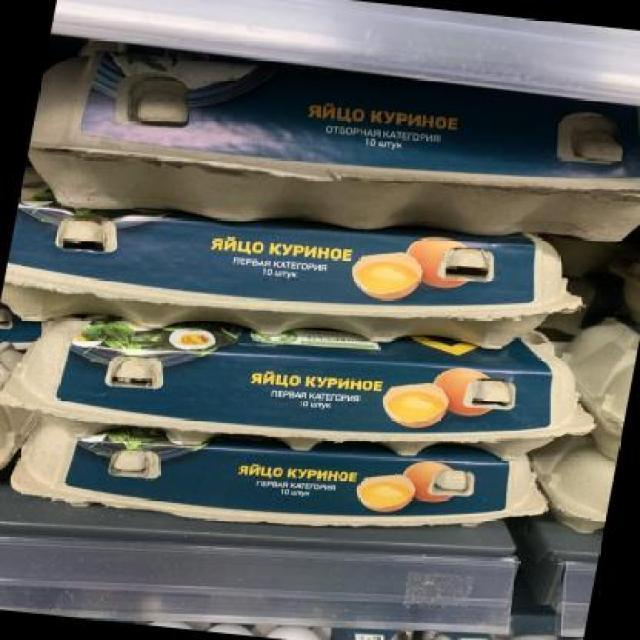Egg: (20, 33, 640, 265), (0, 291, 602, 484), (0, 182, 589, 376), (6, 403, 550, 549)
